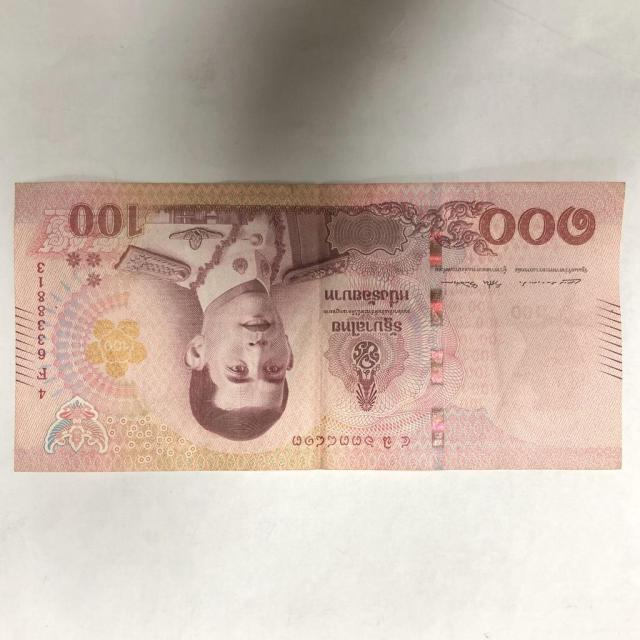THAI100: (12, 180, 627, 476)
